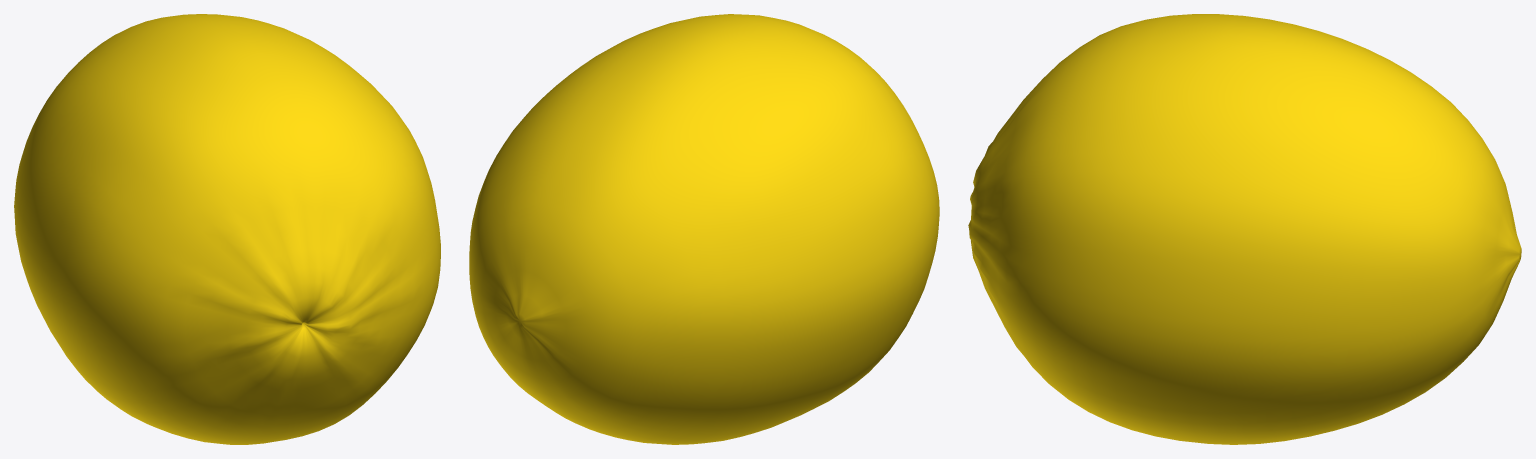
File: Lemon.FBX
3 views of the same model, side by side, from view 1: azimuth 30°, elevation 25°; view 2: azimuth 150°, elevation 25°; view 3: azimuth 270°, elevation 25° (orthographic). The views are drawn at different scales.
Parts seen in each view (by area): view 1: Lemon; view 2: Lemon; view 3: Lemon.
Boxes of the visible parts, box(x1,y1,x2,y2) form: Lemon: box(14, 14, 440, 444); Lemon: box(469, 14, 939, 444); Lemon: box(968, 14, 1521, 444).
Bounding box in the file's own units: 4.65 × 5.9 × 4.58.
